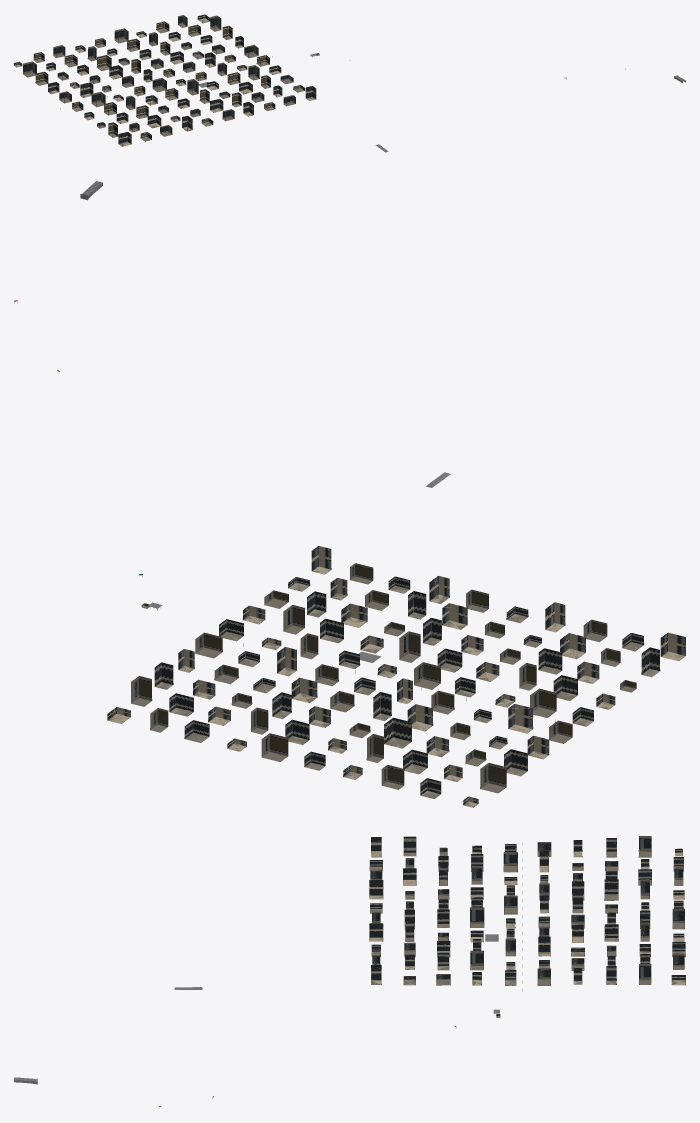
Rendered from props.glb.
3 views of the same model, one above another, from view 1: azimuth 30°, elevation 25°; view 2: azimuth 150°, elevation 25°; view 3: azimuth 270°, elevation 25° (orthographic). The views are drawn at different scales.
Visible parts, largest first — view 1: props_facade_a_0, props_facade_c_3, props_facade_b_2, props_shop_1; view 2: props_facade_a_0, props_facade_c_3, props_facade_b_2, props_shop_1; view 3: props_facade_a_0, props_facade_c_3, props_facade_b_2, props_shop_1.
Boxes of the visible parts, box(x1,y1,x2,y2) form: props_facade_a_0: box(14, 14, 316, 146); props_facade_c_3: box(23, 15, 295, 136); props_facade_b_2: box(33, 21, 304, 140); props_shop_1: box(14, 18, 319, 146); props_facade_a_0: box(107, 546, 685, 807); props_facade_c_3: box(131, 563, 636, 792); props_facade_b_2: box(154, 576, 659, 798); props_shop_1: box(108, 568, 685, 807); props_facade_a_0: box(369, 837, 685, 985); props_facade_c_3: box(370, 836, 684, 985); props_facade_b_2: box(369, 836, 685, 985); props_shop_1: box(370, 850, 685, 1017).
Size of the model in its own units: 1519 by 175 by 1399.
10 materials, 8 textured.
